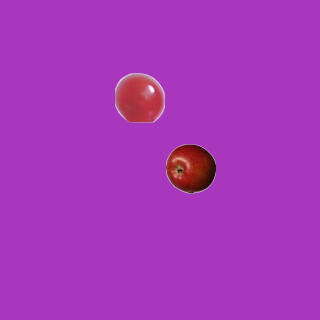Apple Braeburn: (165, 143, 215, 193)
Redcurrant: (114, 72, 164, 122)
